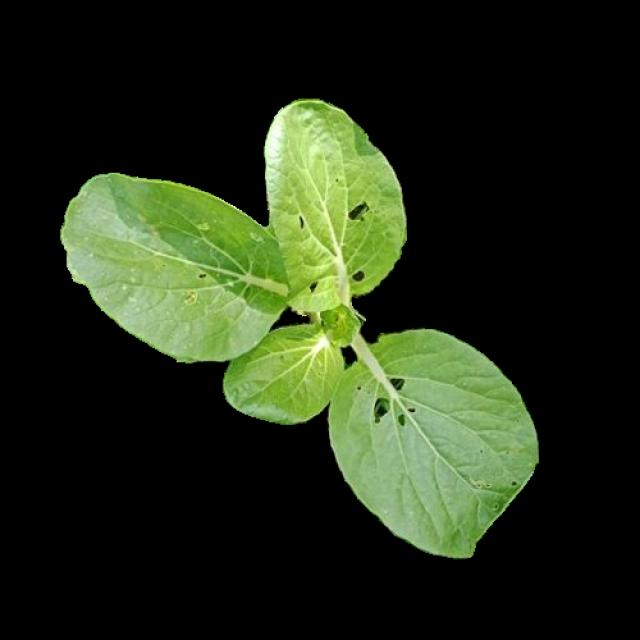not-mature: (59, 101, 539, 559)
unhealthy: (332, 329, 534, 558), (62, 176, 286, 358), (266, 105, 406, 308)
